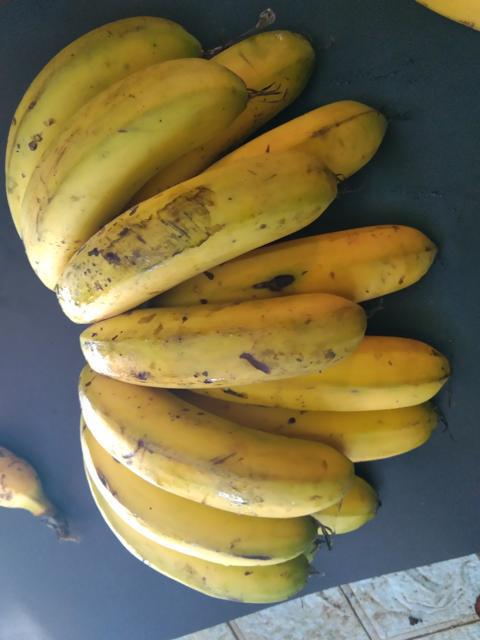ripe: (33, 160, 338, 350), (56, 335, 354, 521), (20, 64, 241, 278), (0, 5, 162, 228), (77, 264, 356, 393), (223, 216, 478, 318), (95, 454, 308, 563), (220, 107, 415, 213), (263, 309, 436, 416)
